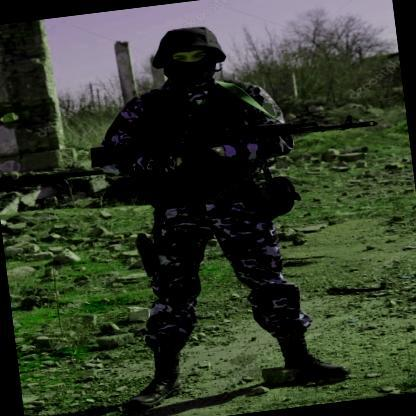rifle: (86, 92, 388, 199), (131, 223, 161, 283)
